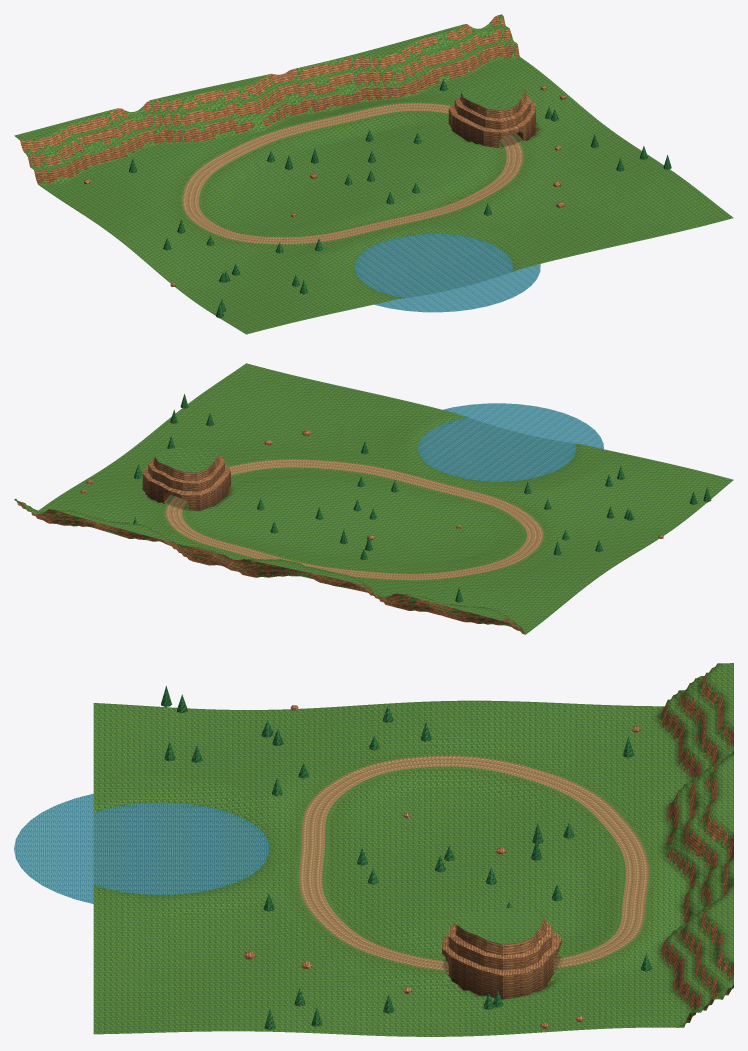
3 renders of one model, top to bottom at view 1: azimuth 30°, elevation 25°; view 2: azimuth 150°, elevation 25°; view 3: azimuth 270°, elevation 25°, orthographic. The views are drawn at different scales.
Parts seen in each view (by area): view 1: Terrain, Lake, Lakeside Road, Mesa; view 2: Terrain, Lake, Lakeside Road, Mesa; view 3: Terrain, Lake, Lakeside Road, Mesa.
Part boxes in pixels (x1,y1,x2,y2): Terrain: (14, 14, 733, 334); Lake: (354, 233, 540, 312); Lakeside Road: (179, 101, 526, 245); Mesa: (448, 83, 535, 148); Terrain: (14, 363, 733, 634); Lake: (418, 403, 603, 481); Lakeside Road: (162, 458, 546, 581); Mesa: (142, 446, 230, 510); Terrain: (93, 663, 733, 1036); Lake: (14, 793, 268, 903); Lakeside Road: (295, 754, 652, 972); Mesa: (442, 907, 561, 999).
Bounding box in the file's own units: 404 × 33 × 371.
9 materials, 9 textured.
